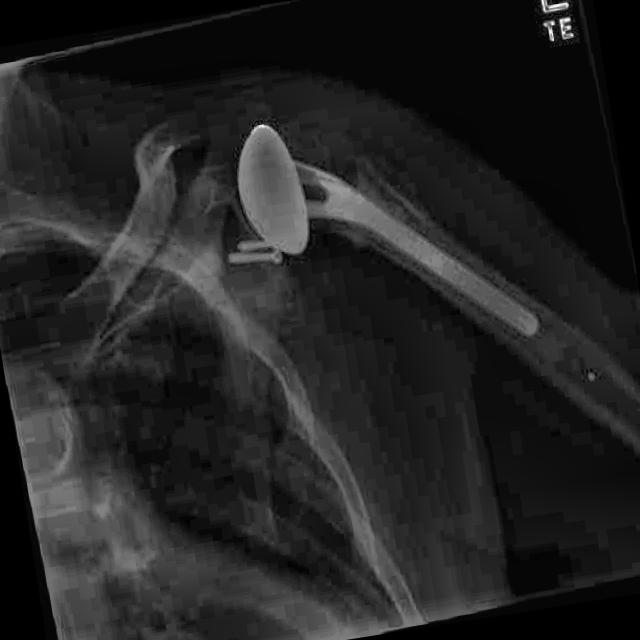shoulder fracture: (106, 129, 192, 197)
